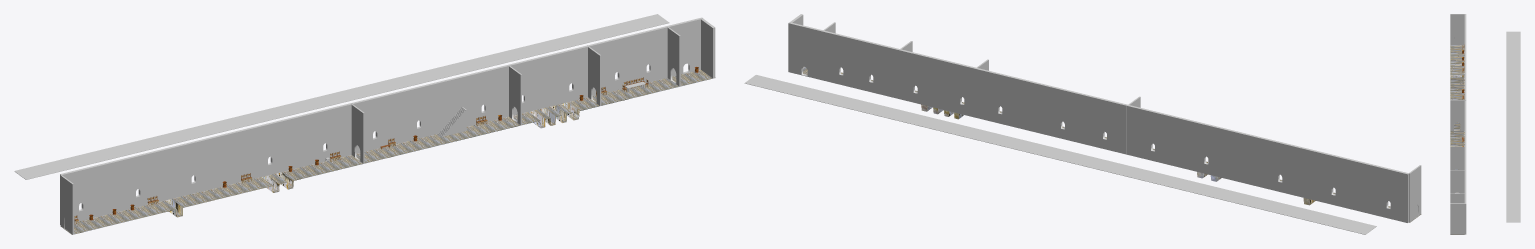
The model's file is map.FBX.
3 renders of one model, left to right at view 1: azimuth 30°, elevation 25°; view 2: azimuth 150°, elevation 25°; view 3: azimuth 270°, elevation 25°, orthographic. The views are drawn at different scales.
Parts seen in each view (by area): view 1: пол 2 этаж, пол 1 этаж, Box030, Box026, Box029, Box031, Box023, Box028, Box032, Box021, Box027, Box025 (+10 smaller); view 2: пол 2 этаж, Box030, Box026, Box032, Box023, Box027, Box029, Box022, Box028, Box031, Box021, Box024 (+4 smaller); view 3: пол 2 этаж, пол 1 этаж, Box004, перегородка, Box002, перегородка001, перегородка002, перегородка003, Box020, Box030, Box026, Cylinder002.
Part boxes in pixels (left/top/right/bottom): пол 2 этаж: left=14, top=14, right=669, bottom=179; пол 1 этаж: left=60, top=70, right=715, bottom=234; Box030: left=152, top=124, right=265, bottom=202; Box026: left=395, top=73, right=474, bottom=143; Box029: left=264, top=113, right=309, bottom=175; Box031: left=109, top=151, right=153, bottom=213; Box023: left=543, top=45, right=588, bottom=107; Box028: left=308, top=103, right=352, bottom=165; Box032: left=60, top=162, right=111, bottom=224; Box021: left=631, top=26, right=667, bottom=83; Box027: left=351, top=92, right=396, bottom=153; Box025: left=473, top=65, right=509, bottom=124; пол 2 этаж: left=744, top=75, right=1376, bottom=234; Box030: left=1210, top=125, right=1319, bottom=201; Box026: left=1009, top=76, right=1085, bottom=144; Box032: left=1359, top=162, right=1408, bottom=222; Box023: left=899, top=49, right=942, bottom=109; Box027: left=1084, top=94, right=1127, bottom=154; Box029: left=1168, top=115, right=1211, bottom=174; Box022: left=856, top=39, right=899, bottom=98; Box028: left=1127, top=105, right=1169, bottom=164; Box031: left=1319, top=151, right=1361, bottom=211; Box021: left=822, top=30, right=857, bottom=88; Box024: left=941, top=59, right=976, bottom=117; пол 2 этаж: left=1506, top=31, right=1520, bottom=222; пол 1 этаж: left=1450, top=45, right=1464, bottom=234; Box004: left=1450, top=203, right=1464, bottom=234; перегородка: left=1450, top=100, right=1464, bottom=130; Box002: left=1450, top=14, right=1464, bottom=44; перегородка001: left=1450, top=146, right=1464, bottom=169; перегородка002: left=1450, top=170, right=1464, bottom=193; перегородка003: left=1450, top=193, right=1464, bottom=203; Box020: left=1464, top=193, right=1466, bottom=234; Box030: left=1464, top=41, right=1466, bottom=74; Box026: left=1464, top=113, right=1466, bottom=135; Cylinder002: left=1454, top=36, right=1460, bottom=44.
Size of the model in its own units: 3664 by 321 by 574.
